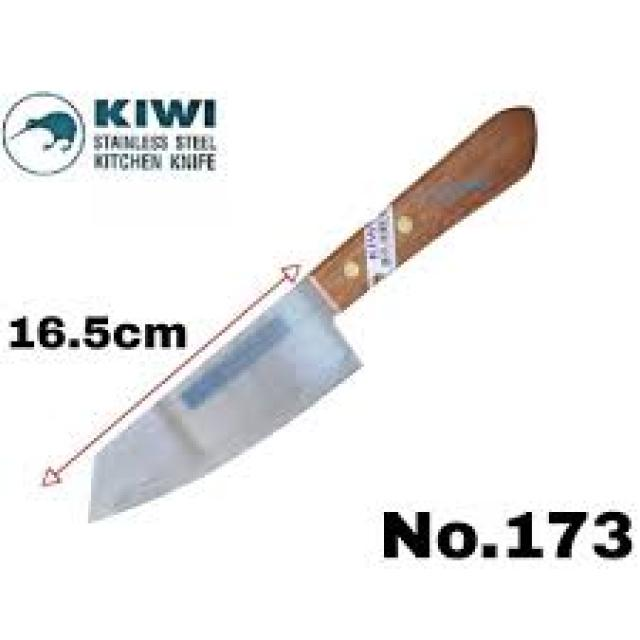Knife: (88, 105, 532, 521)
